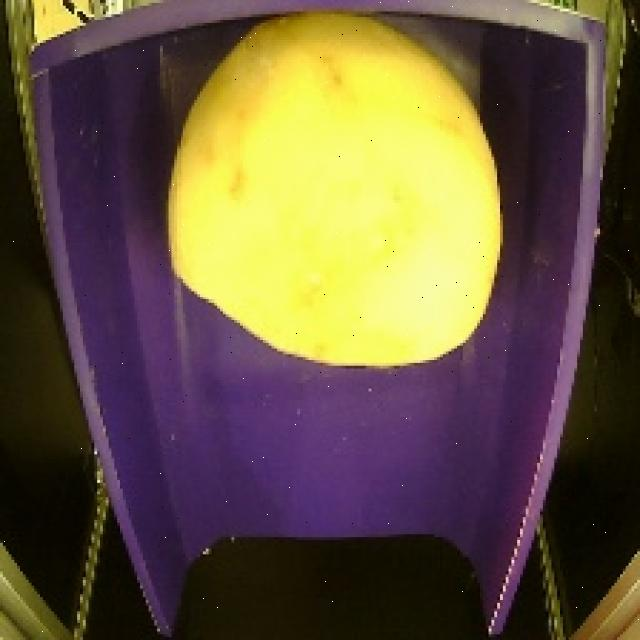full_potato: (150, 3, 517, 380)
